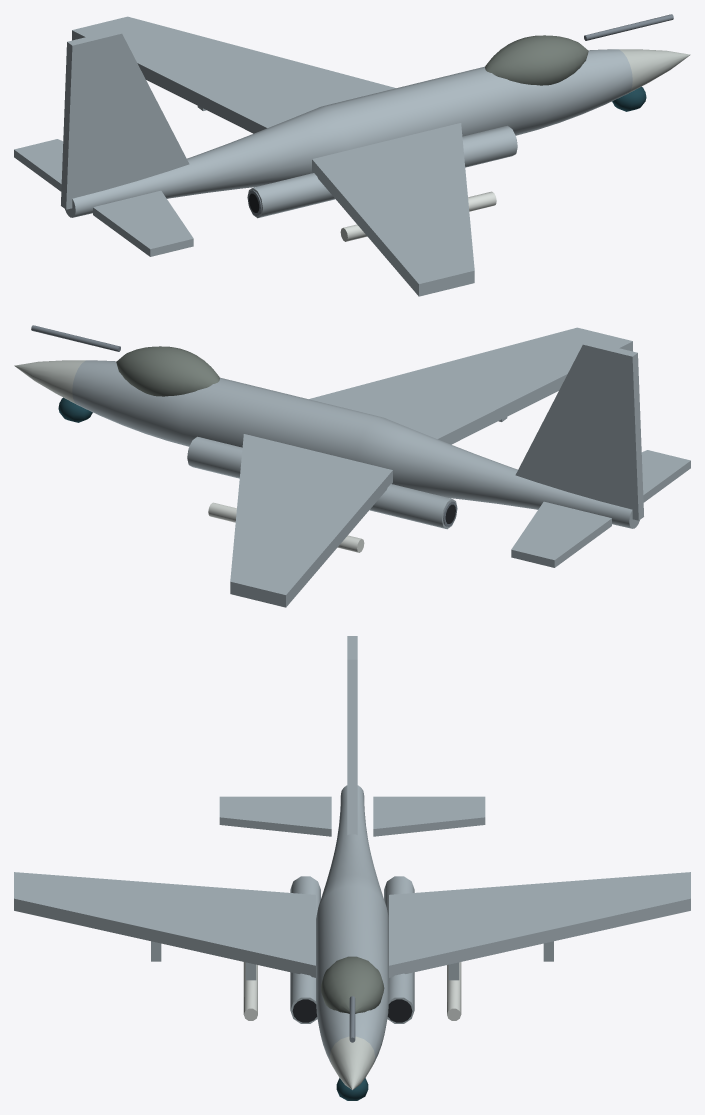
3 views of the same model, one above another, from view 1: azimuth 30°, elevation 25°; view 2: azimuth 150°, elevation 25°; view 3: azimuth 270°, elevation 25° (orthographic). The views are drawn at different scales.
Visible parts, largest first — view 1: naval_paint, canopy_gold, array_face, missile_body, titanium, glazing; view 2: naval_paint, canopy_gold, array_face, missile_body, titanium, glazing; view 3: naval_paint, canopy_gold, array_face, missile_body, rubber.
Boxes of the visible parts, x1,y1,x2,y2 form: naval_paint: (14, 16, 632, 296); canopy_gold: (485, 35, 588, 85); array_face: (619, 49, 690, 93); missile_body: (340, 191, 496, 241); titanium: (247, 14, 673, 215); glazing: (612, 86, 646, 111); naval_paint: (72, 327, 690, 607); canopy_gold: (116, 346, 219, 396); array_face: (14, 360, 85, 404); missile_body: (208, 502, 364, 552); titanium: (31, 325, 457, 526); glazing: (58, 397, 92, 422); naval_paint: (14, 636, 690, 1062); canopy_gold: (320, 956, 384, 1013); array_face: (330, 1036, 374, 1089); missile_body: (243, 962, 461, 1020); rubber: (292, 999, 412, 1022).
Bounding box in the file's own units: 10 × 3.25 × 9.58.
